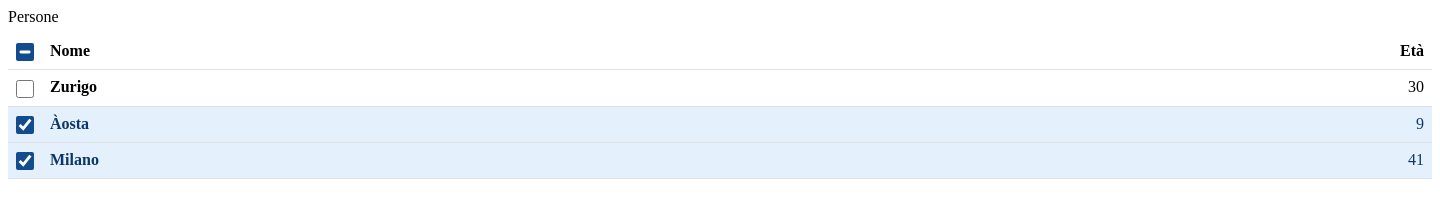
Test: under an exclude rule › does not claim every row when exceptions survive on other pages
Click the checkbox named "Select all rows" at point(25, 52), box [16,43,34,61]
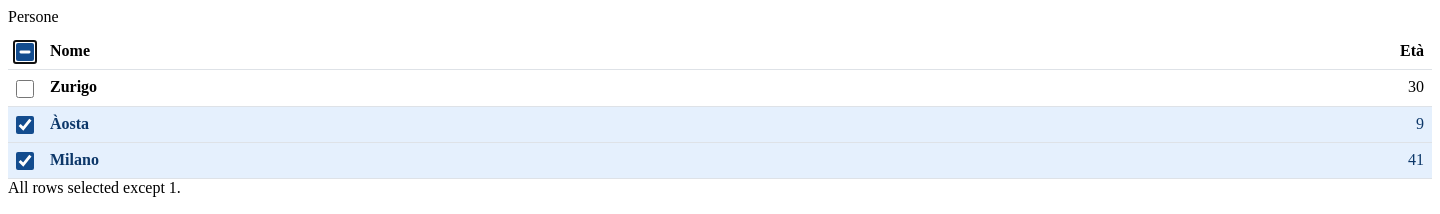
Now the message "All rows selected except 1." is shown, box [8,179,181,196]
